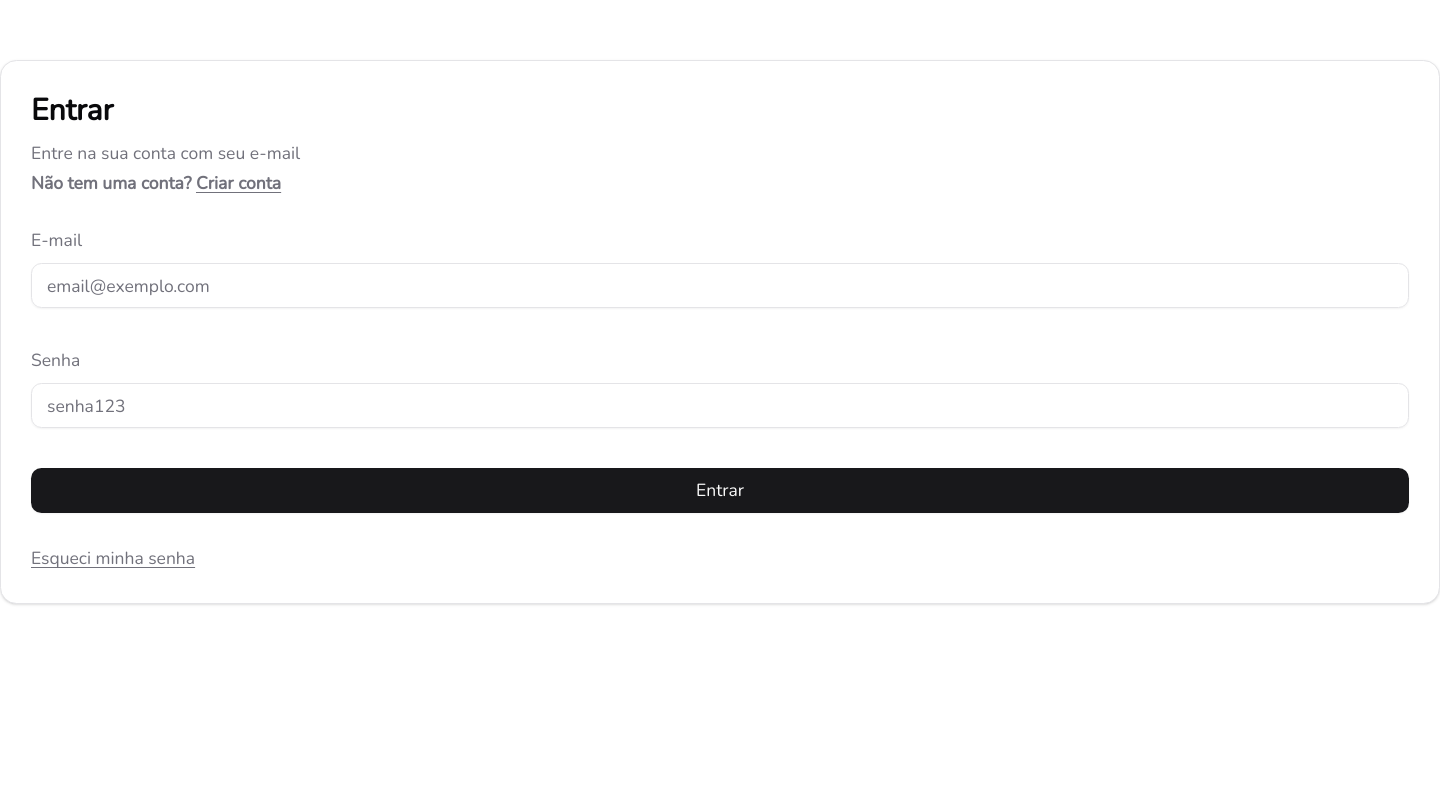
Test: Login Page Component › refuses an empty form without asking the server
What coordinates should you click on to do the following:
click the button "Entrar"
I would click on:
 (720, 491)
Its box is [31,468,1409,514].
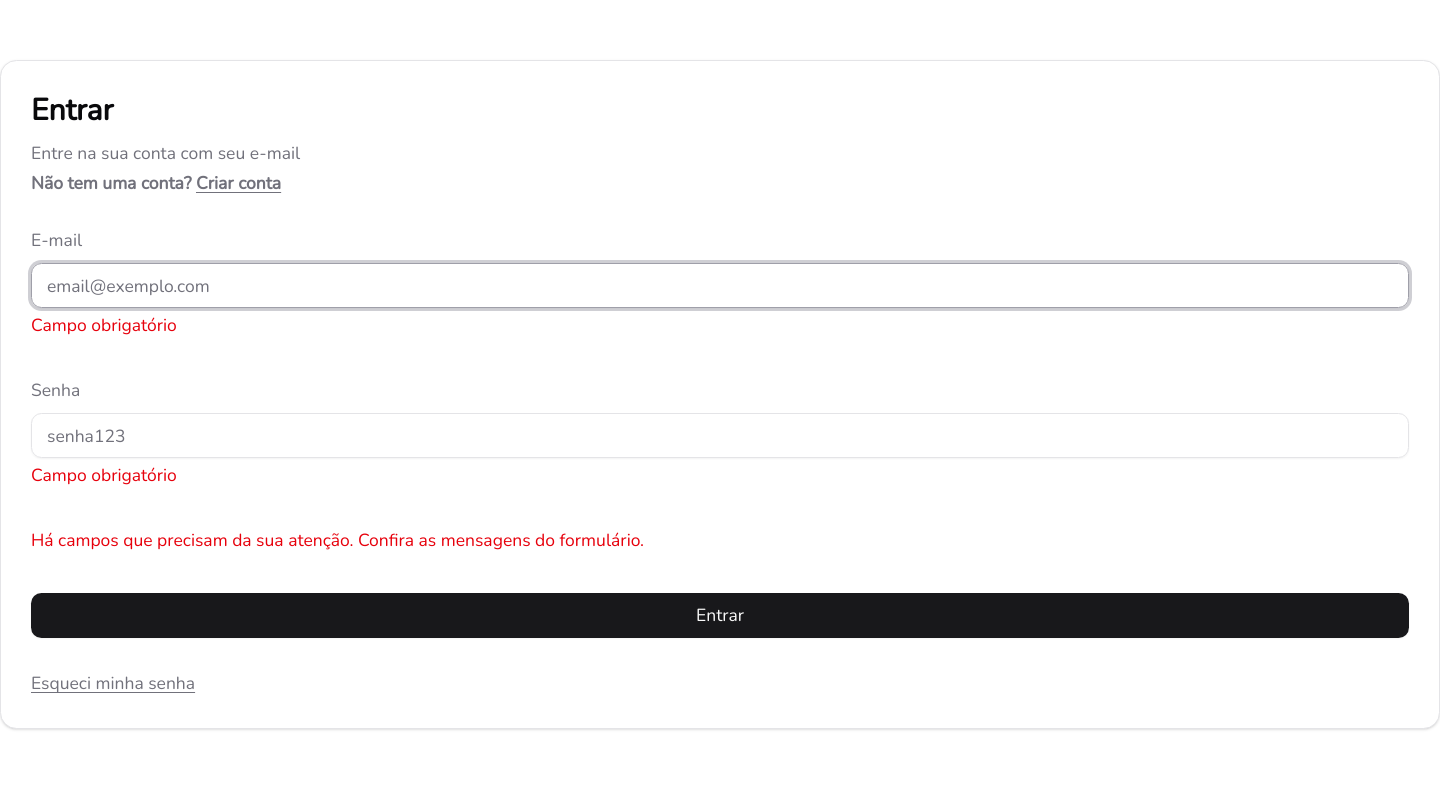
Expected: the text "Campo obrigatório" is shown 2 times, [31,314,177,338]; [31,464,177,488]
